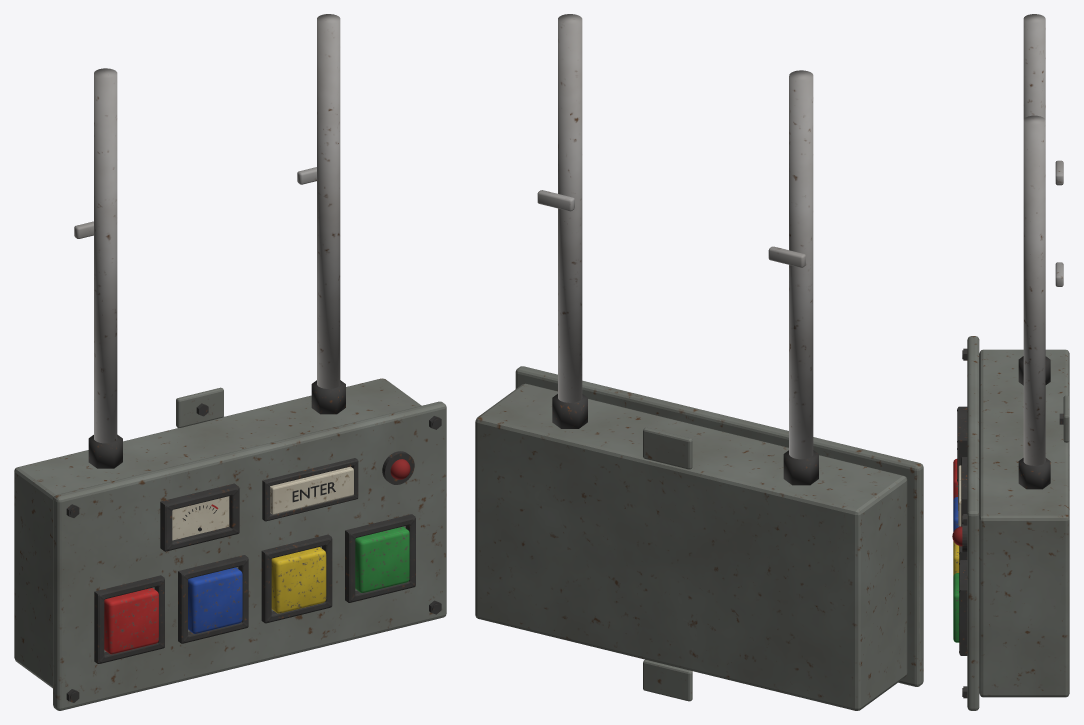
File: ColorPuzzle.fbx
The picture shows the model from 3 angles, left to right: view 1: azimuth 30°, elevation 25°; view 2: azimuth 150°, elevation 25°; view 3: azimuth 270°, elevation 25°; orthographic projection. The views are drawn at different scales.
Parts seen in each view (by area): view 1: ColorPuzzle_Body, ColorPuzzle_Conduit, ColorPuzzle_Bezels, ColorPuzzle_Button_Yellow, ColorPuzzle_Button_Green, ColorPuzzle_Button_Red, ColorPuzzle_Button_Blue, ColorPuzzle_Button_Enter, ColorPuzzle_GaugeFace; view 2: ColorPuzzle_Body, ColorPuzzle_Conduit; view 3: ColorPuzzle_Body, ColorPuzzle_Conduit, ColorPuzzle_Bezels, ColorPuzzle_Button_Green, ColorPuzzle_Button_Enter.
Part boxes in pixels (x1,y1,x2,y2): ColorPuzzle_Body: (14, 378, 446, 710); ColorPuzzle_Conduit: (74, 14, 345, 468); ColorPuzzle_Bezels: (94, 451, 415, 663); ColorPuzzle_Button_Yellow: (271, 547, 326, 613); ColorPuzzle_Button_Green: (355, 526, 409, 592); ColorPuzzle_Button_Red: (104, 588, 158, 654); ColorPuzzle_Button_Blue: (188, 567, 242, 633); ColorPuzzle_Button_Enter: (270, 466, 353, 514); ColorPuzzle_GaugeFace: (172, 496, 229, 540); ColorPuzzle_Body: (475, 366, 923, 710); ColorPuzzle_Conduit: (537, 14, 818, 485); ColorPuzzle_Body: (962, 336, 1069, 710); ColorPuzzle_Conduit: (1018, 14, 1063, 489); ColorPuzzle_Bezels: (957, 406, 967, 655); ColorPuzzle_Button_Green: (953, 573, 959, 642); ColorPuzzle_Button_Enter: (958, 465, 961, 526).
Bounding box in the file's own units: 0.42 × 0.63 × 0.117.
2 materials, 1 textured.
